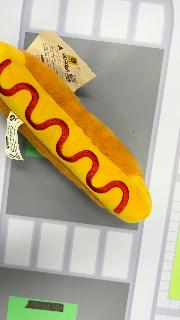hotdog: (1, 42, 153, 225)
